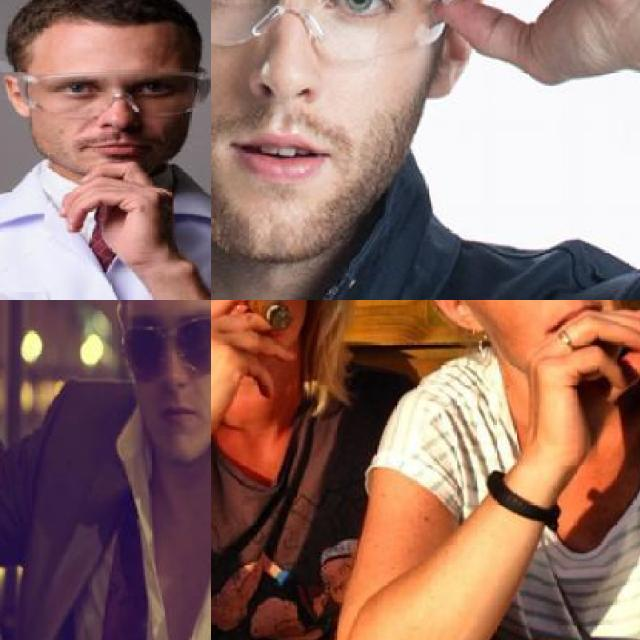No_Ear-Protection: (420, 300, 491, 346)
face_nomask: (211, 0, 408, 214), (50, 66, 176, 165), (130, 304, 211, 432), (478, 300, 610, 335)
glasses: (211, 0, 471, 63), (1, 67, 211, 118), (122, 300, 211, 372)
hand_noglove: (409, 0, 640, 85), (521, 302, 640, 411), (60, 154, 165, 253), (211, 300, 298, 414)
head_nohelmet: (18, 0, 195, 43)
person: (6, 300, 211, 640), (0, 0, 211, 300)
